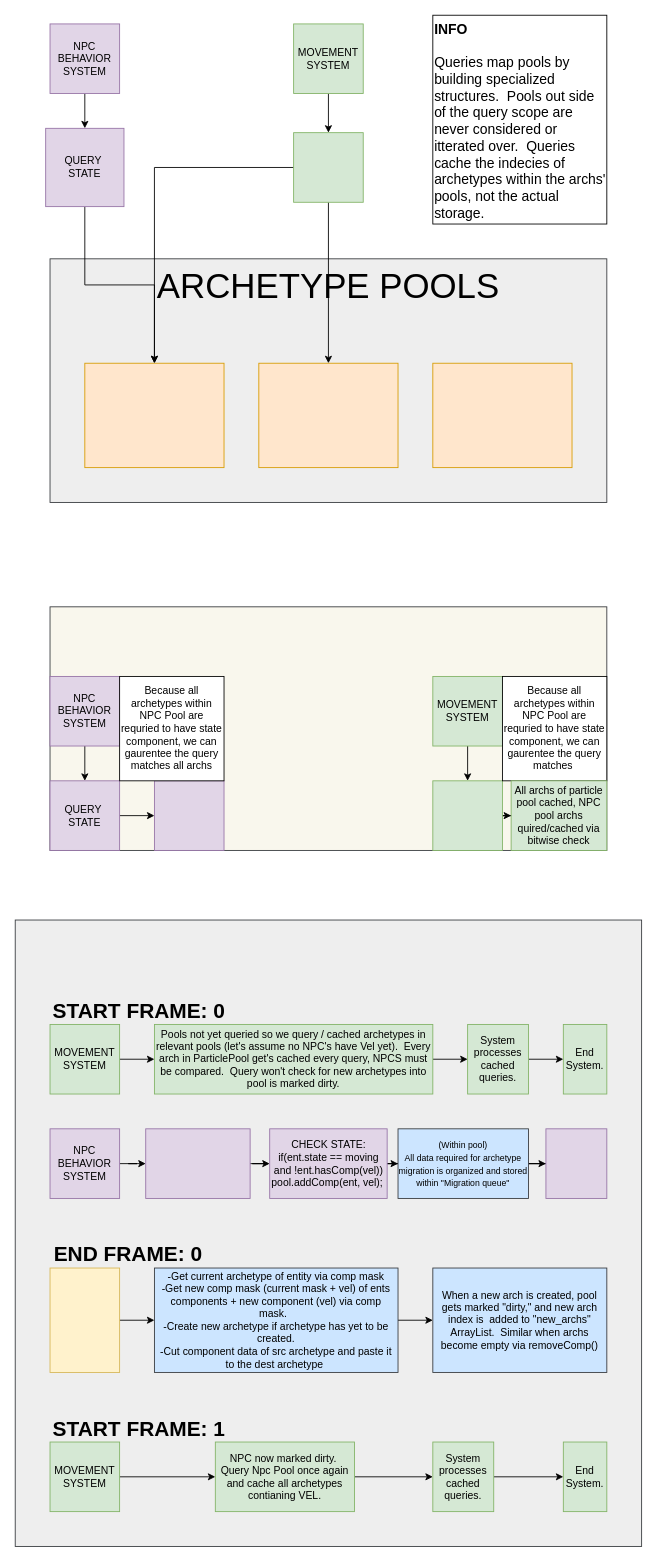
The diagram is 657 pixels wide and 1562 high, and some of its shapes have lost their labels. Here are the shapes that lost their labels. From the top down, the box of each, then its label:
(293, 132, 363, 202): QUERY POS, VEL
(84, 362, 224, 468): NPC POOL (req=pos, state; opt=vel, atk, health, AI)
(258, 362, 398, 468): PARTICLE POOL (req=pos, vel; opt=size, color)
(432, 362, 572, 468): UI POOL (req=dimensions; opt=style)
(49, 606, 607, 850): REQ vs. OPT COPMPONENT QUERYING
(154, 780, 224, 850): Collect all archetypes of NPC pool
(432, 780, 502, 850): QUERY POS & VEL
(145, 1128, 250, 1198): Get all NPC archertypes / component data, same as in Movment system
(545, 1128, 607, 1198): SYSTEM END
(14, 919, 642, 1546): CACHE INVALIDATION
(49, 1267, 120, 1372): FLUSH MIGRATION QUEUE FOR EACH POOL
